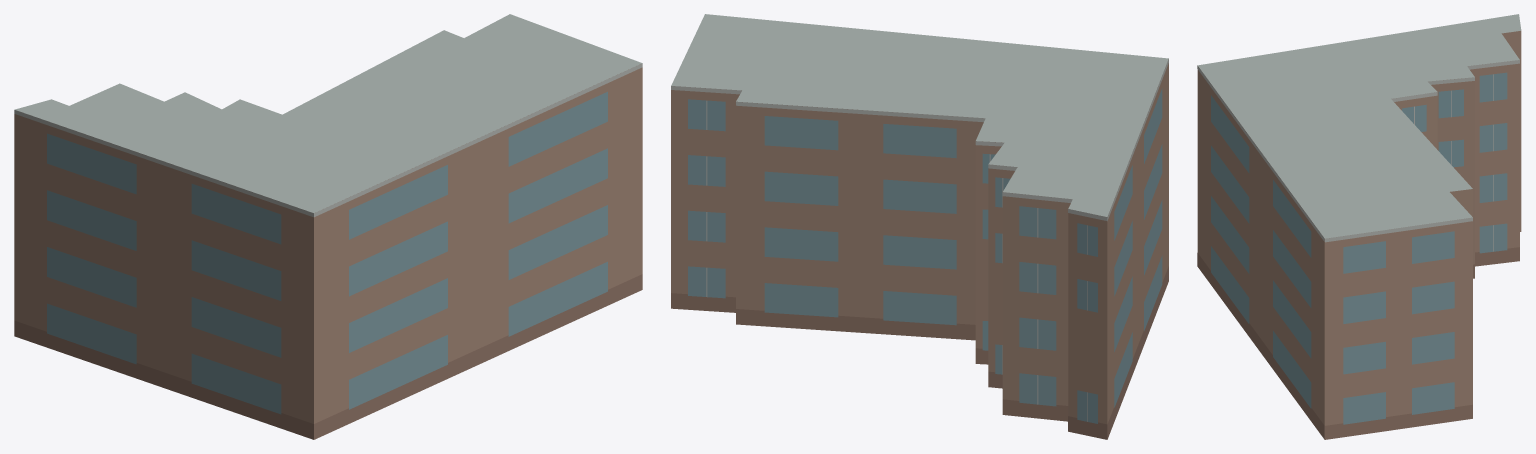
The model's file is survey-upis-32866817.glb.
3 renders of one model, left to right at view 1: azimuth 30°, elevation 25°; view 2: azimuth 150°, elevation 25°; view 3: azimuth 270°, elevation 25°, orthographic. The views are drawn at different scales.
Visible parts, largest first — view 1: survey-upis-32866817.tmp; view 2: survey-upis-32866817.tmp; view 3: survey-upis-32866817.tmp.
Boxes of the visible parts, x1,y1,x2,y2 form: survey-upis-32866817.tmp: (14, 14, 642, 439); survey-upis-32866817.tmp: (671, 14, 1168, 439); survey-upis-32866817.tmp: (1197, 14, 1521, 439).
Bounding box in the file's own units: 32.06 × 13.38 × 19.53.
